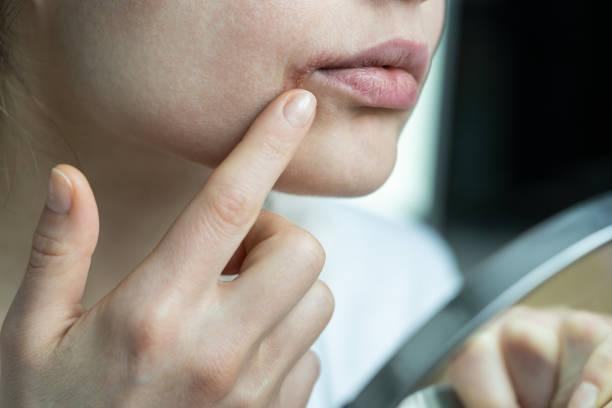Dry-Skin: (90, 1, 282, 103)
